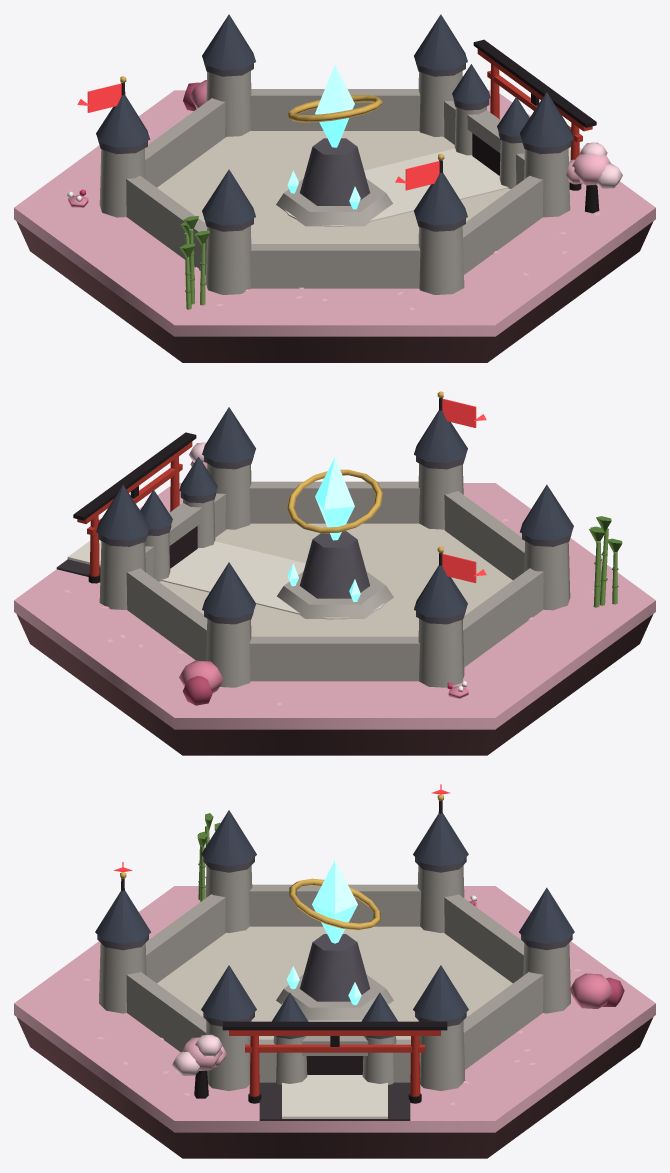
File: tile_base_hex.glb
3 renders of one model, top to bottom at view 1: azimuth 30°, elevation 25°; view 2: azimuth 150°, elevation 25°; view 3: azimuth 270°, elevation 25°, orthographic.
Visible parts, largest first — view 1: ground, courtyard, ground_soil, wall_3, wall_0, road, wall_4, wall_1, beacon_pedestal, wall_2, tower_4_body, tower_3_body (+26 smaller); view 2: ground, ground_soil, courtyard, wall_1, road, wall_4, wall_2, wall_0, wall_3, beacon_pedestal, tower_2_body, beacon_step (+27 smaller); view 3: ground, courtyard, ground_soil, road, wall_2, wall_0, wall_1, wall_3, wall_4, beacon_pedestal, tower_0_body, tower_4_body (+29 smaller).
Part boxes in pixels (<box>): ground: <box>14,90,655,336</box>; courtyard: <box>157,131,510,243</box>; ground_soil: <box>16,221,653,362</box>; wall_3: <box>250,244,420,288</box>; wall_0: <box>250,89,420,130</box>; road: <box>364,147,581,221</box>; wall_4: <box>462,175,543,274</box>; wall_1: <box>145,98,225,187</box>; beacon_pedestal: <box>300,138,369,205</box>; wall_2: <box>126,175,206,274</box>; tower_4_body: <box>418,226,464,294</box>; tower_3_body: <box>205,226,251,294</box>; ground: <box>14,483,655,729</box>; ground_soil: <box>16,614,653,755</box>; courtyard: <box>159,523,512,636</box>; wall_1: <box>249,636,419,681</box>; road: <box>56,540,305,614</box>; wall_4: <box>249,481,419,523</box>; wall_2: <box>463,568,543,667</box>; wall_0: <box>126,568,207,660</box>; wall_3: <box>444,491,524,580</box>; beacon_pedestal: <box>299,531,370,598</box>; tower_2_body: <box>418,618,464,687</box>; beacon_step: <box>277,571,393,618</box>; ground: <box>14,886,655,1132</box>; courtyard: <box>157,926,512,1039</box>; ground_soil: <box>16,1017,653,1158</box>; road: <box>259,1003,410,1120</box>; wall_2: <box>249,884,420,926</box>; wall_0: <box>463,971,543,1069</box>; wall_1: <box>444,894,524,983</box>; wall_3: <box>145,894,225,983</box>; wall_4: <box>126,971,206,1051</box>; beacon_pedestal: <box>299,934,370,1001</box>; tower_0_body: <box>418,1020,465,1090</box>; tower_4_body: <box>99,943,146,1013</box>.
Size of the model in its own units: 1.73 by 0.643 by 2.
